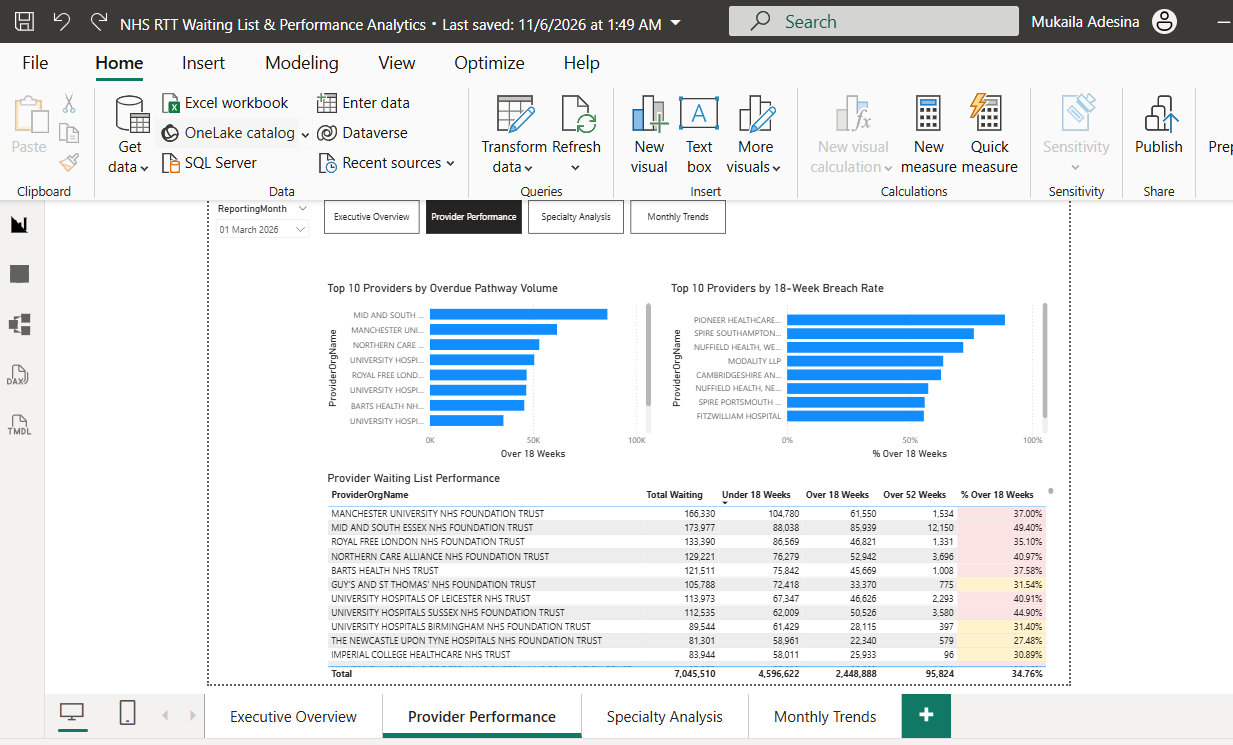

The dashboard page shown, as its layout file describes it:
{"tool":"powerbi","page":{"name":"Provider Performance","canvas":[1280,720],"ordinal":1},"visuals":[{"type":"clusteredBarChart","title":"Top 10 Providers by 18-Week Breach Rate","fields":{"Category":["rpt vw_RTTIncompletePathways.ProviderOrgName"],"Y":["rpt vw_RTTIncompletePathways.% Over 18 Weeks"]},"box":[682.7,121.3,570.7,269.3],"z":0},{"type":"clusteredBarChart","title":"Top 10 Providers by Overdue Pathway Volume","fields":{"Category":["rpt vw_RTTIncompletePathways.ProviderOrgName"],"Y":["rpt vw_RTTIncompletePathways.Over 18 Weeks"]},"box":[172,121.3,492,269.3],"z":1000},{"type":"slicer","fields":{"Values":["rpt vw_RTTIncompletePathways.ReportingMonth"]},"box":[0,0,158.7,85.3],"z":2000},{"type":"pageNavigator","box":[172,0,600,50.7],"z":3000},{"type":"tableEx","title":"Provider Waiting List Performance","fields":{"Values":["rpt vw_RTTIncompletePathways.ProviderOrgName","rpt vw_RTTIncompletePathways.Total Waiting","rpt vw_RTTIncompletePathways.Under 18 Weeks","rpt vw_RTTIncompletePathways.Over 18 Weeks","rpt vw_RTTIncompletePathways.Over 52 Weeks","rpt vw_RTTIncompletePathways.% Over 18 Weeks"]},"box":[172,404,1090.7,316],"z":4000}]}

Visuals, with their boxes on the page's 1280x720 design canvas (x1, y1, x2, y2). These are canvas units, not pixel positions in the 1233x745 screenshot, which may show the page scaled, cropped or inside an application window:
"Top 10 Providers by 18-Week Breach Rate" clusteredBarChart: bbox(683, 121, 1253, 391)
"Top 10 Providers by Overdue Pathway Volume" clusteredBarChart: bbox(172, 121, 664, 391)
slicer - rpt vw_RTTIncompletePathways.ReportingMonth: bbox(0, 0, 159, 85)
pageNavigator: bbox(172, 0, 772, 51)
"Provider Waiting List Performance" tableEx: bbox(172, 404, 1263, 720)
